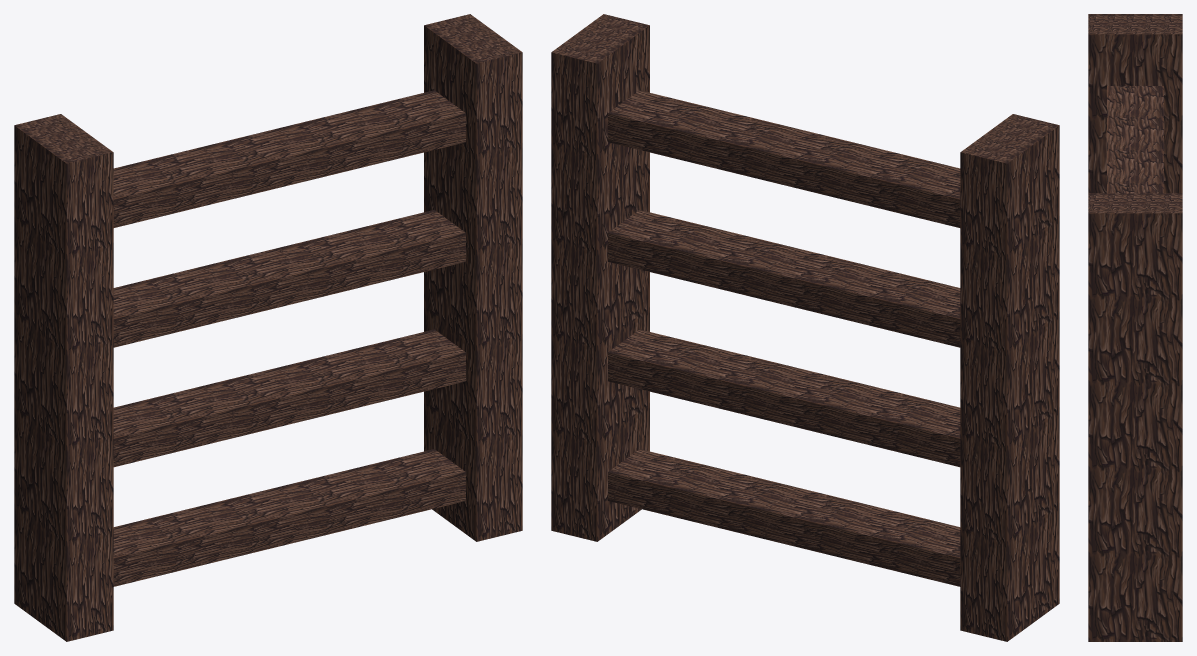
Rendered from escalera.FBX.
3 renders of one model, left to right at view 1: azimuth 30°, elevation 25°; view 2: azimuth 150°, elevation 25°; view 3: azimuth 270°, elevation 25°, orthographic. The views are drawn at different scales.
Parts seen in each view (by area): view 1: Box006; view 2: Box006; view 3: Box006.
Part boxes in pixels (<box>): Box006: <box>14,14,522,641</box>; Box006: <box>551,14,1059,641</box>; Box006: <box>1088,14,1182,641</box>.
Bounding box in the file's own units: 0.9979 × 1 × 0.1989.
Materials: 1 (1 with a texture image).
